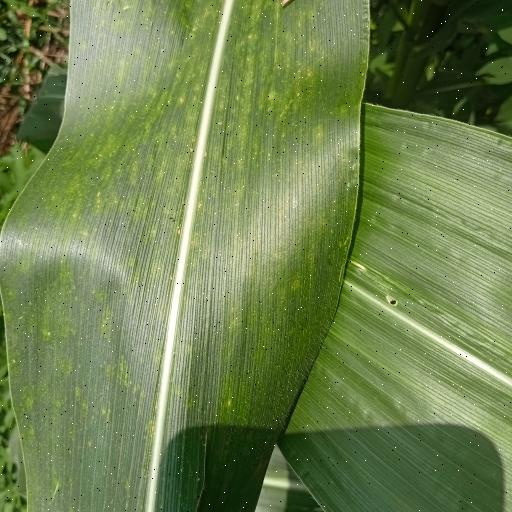Corn_Brown_Spots: (2, 7, 367, 512)
